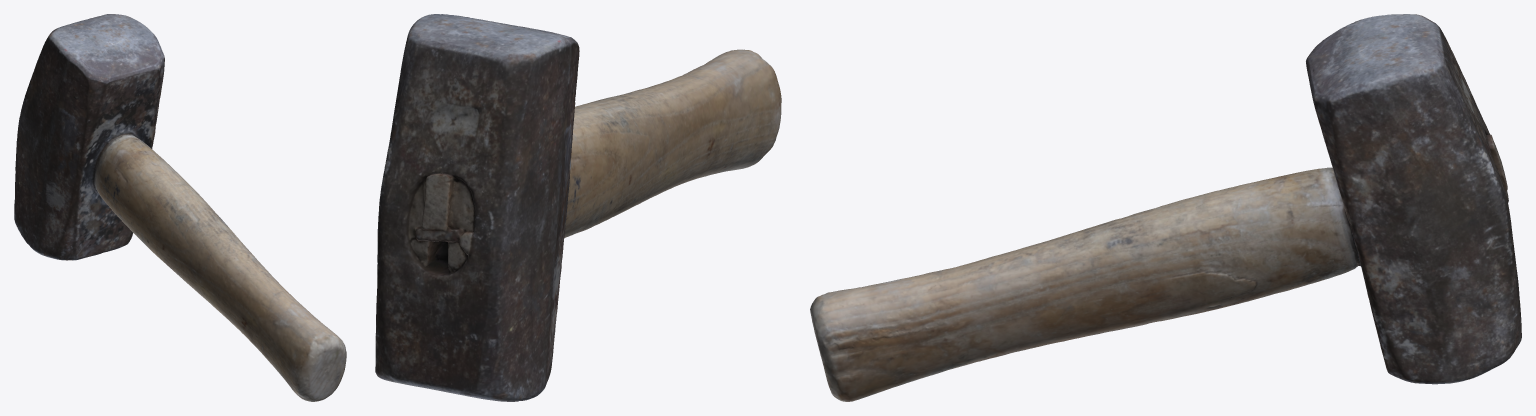
The model's file is hammer.fbx.
3 renders of one model, left to right at view 1: azimuth 30°, elevation 25°; view 2: azimuth 150°, elevation 25°; view 3: azimuth 270°, elevation 25°, orthographic. The views are drawn at different scales.
Parts seen in each view (by area): view 1: hammer; view 2: hammer; view 3: hammer.
Part boxes in pixels (x1,y1,x2,y2): hammer: [14, 14, 346, 401]; hammer: [375, 14, 781, 401]; hammer: [810, 14, 1521, 401].
Bounding box in the file's own units: 34.39 × 17.92 × 8.22.
1 material, 1 textured.
